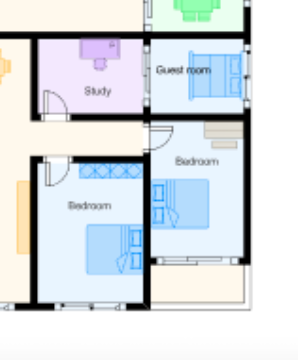door: (39, 148, 75, 190), (41, 84, 72, 129), (139, 122, 178, 154)
window: (54, 290, 131, 326), (237, 42, 258, 107)
